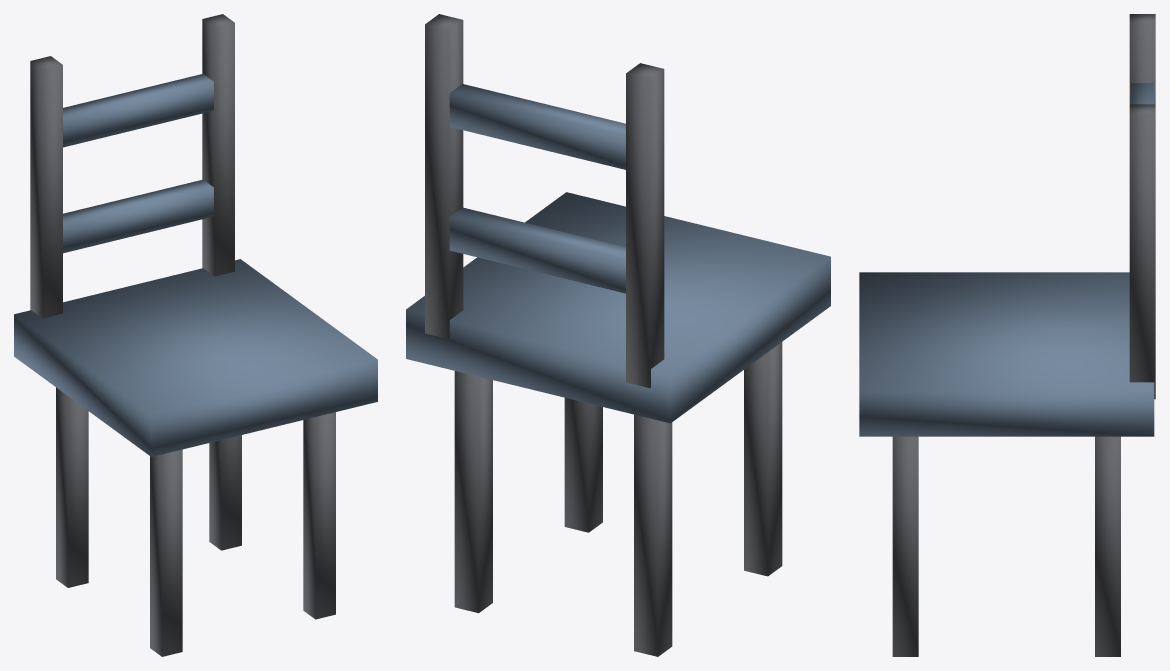
The model's file is station_bench__compact.glb.
3 views of the same model, side by side, from view 1: azimuth 30°, elevation 25°; view 2: azimuth 150°, elevation 25°; view 3: azimuth 270°, elevation 25° (orthographic). The views are drawn at different scales.
Visible parts, largest first — view 1: world; view 2: world; view 3: world.
Part boxes in pixels (box(x1,y1,x2,y2)): world: box(14, 14, 377, 656); world: box(406, 14, 830, 656); world: box(859, 14, 1155, 656).
Bounding box in the file's own units: 0.4166 × 0.8941 × 0.4396.
